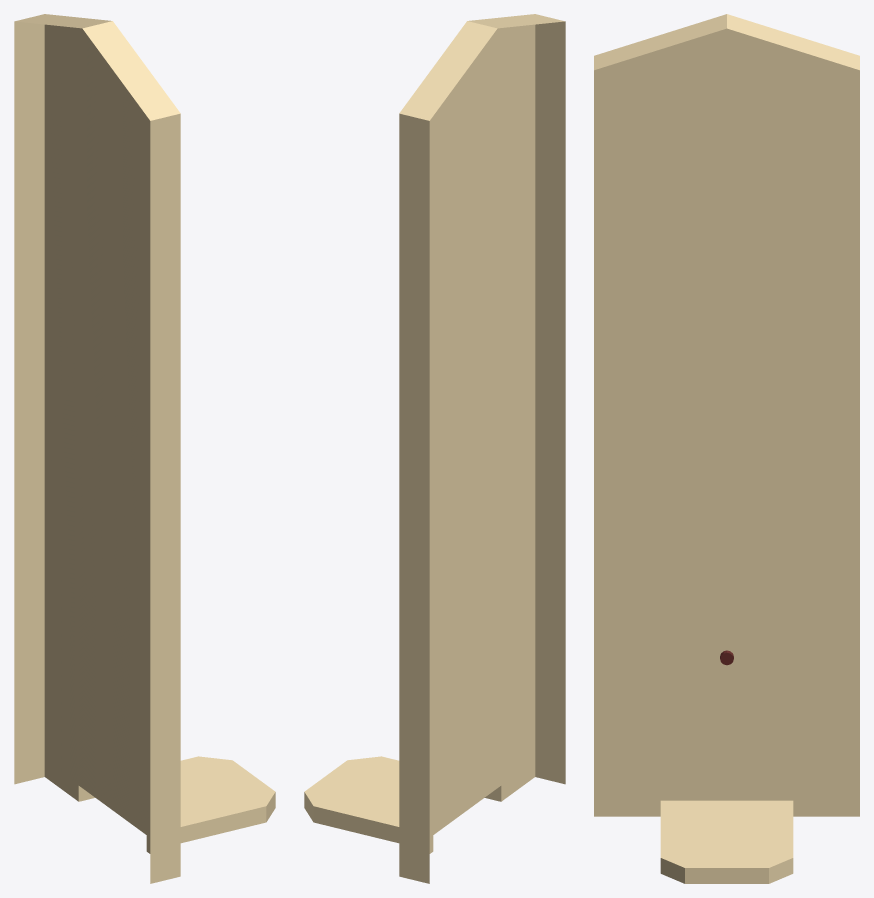
File: Retablo_pieza_D.fbx
3 views of the same model, side by side, from view 1: azimuth 30°, elevation 25°; view 2: azimuth 150°, elevation 25°; view 3: azimuth 270°, elevation 25° (orthographic). The views are drawn at different scales.
Parts seen in each view (by area): view 1: Retablo_pieza_D; view 2: Retablo_pieza_D; view 3: Retablo_pieza_D.
Boxes of the visible parts, <box> form: Retablo_pieza_D: <box>14,14,275,883</box>; Retablo_pieza_D: <box>304,14,565,883</box>; Retablo_pieza_D: <box>594,14,859,883</box>.
Bounding box in the file's own units: 365 × 1634 × 500.
